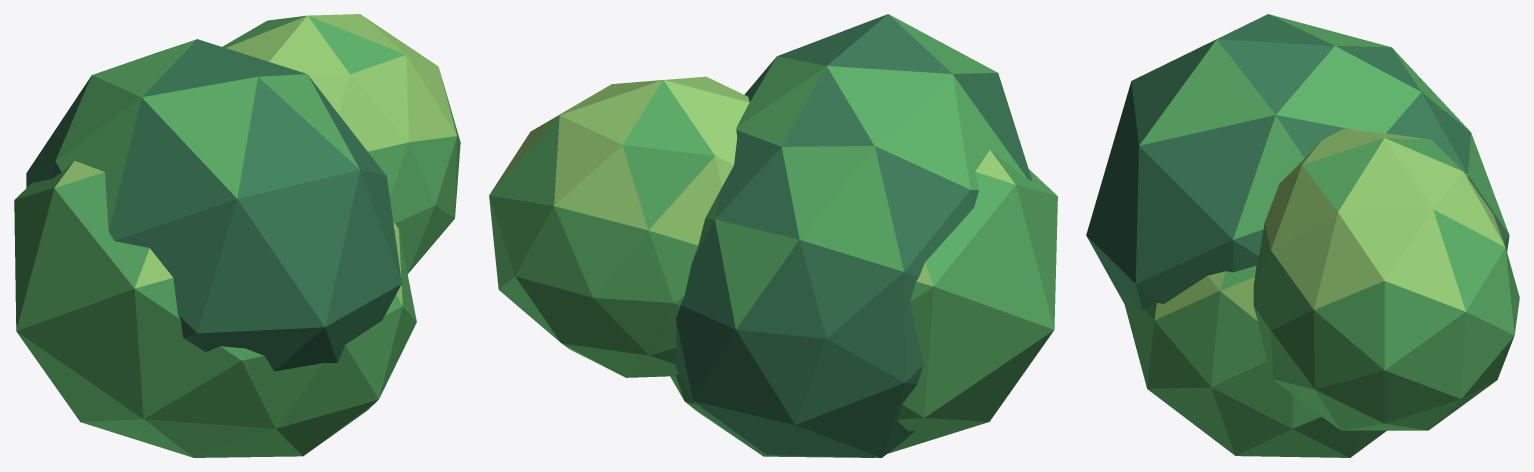
The model's file is bush_round_d.glb.
3 renders of one model, left to right at view 1: azimuth 30°, elevation 25°; view 2: azimuth 150°, elevation 25°; view 3: azimuth 270°, elevation 25°, orthographic. The views are drawn at different scales.
Visible parts, largest first — view 1: BushRoundD; view 2: BushRoundD; view 3: BushRoundD.
Boxes of the visible parts, <box> form: BushRoundD: <box>14,14,460,457</box>; BushRoundD: <box>489,14,1057,457</box>; BushRoundD: <box>1086,14,1519,457</box>.
Size of the model in its own units: 1.38 by 1.03 by 1.08.
